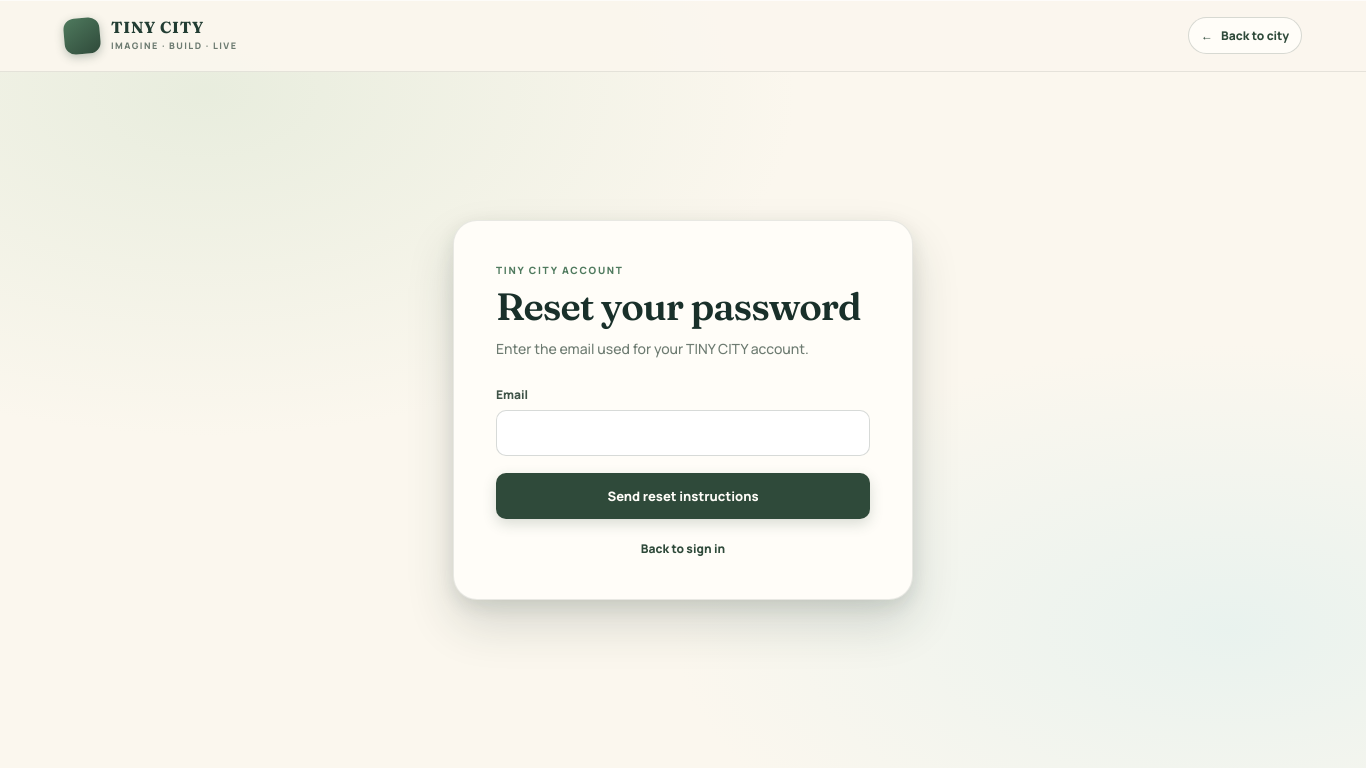
Scenario: account entry flows › shows the generic forgot-password response and does not ask whether the account exists
Type "huy@example.com" into the field labelled "Email" at (683, 433), box [496,410,870,456]
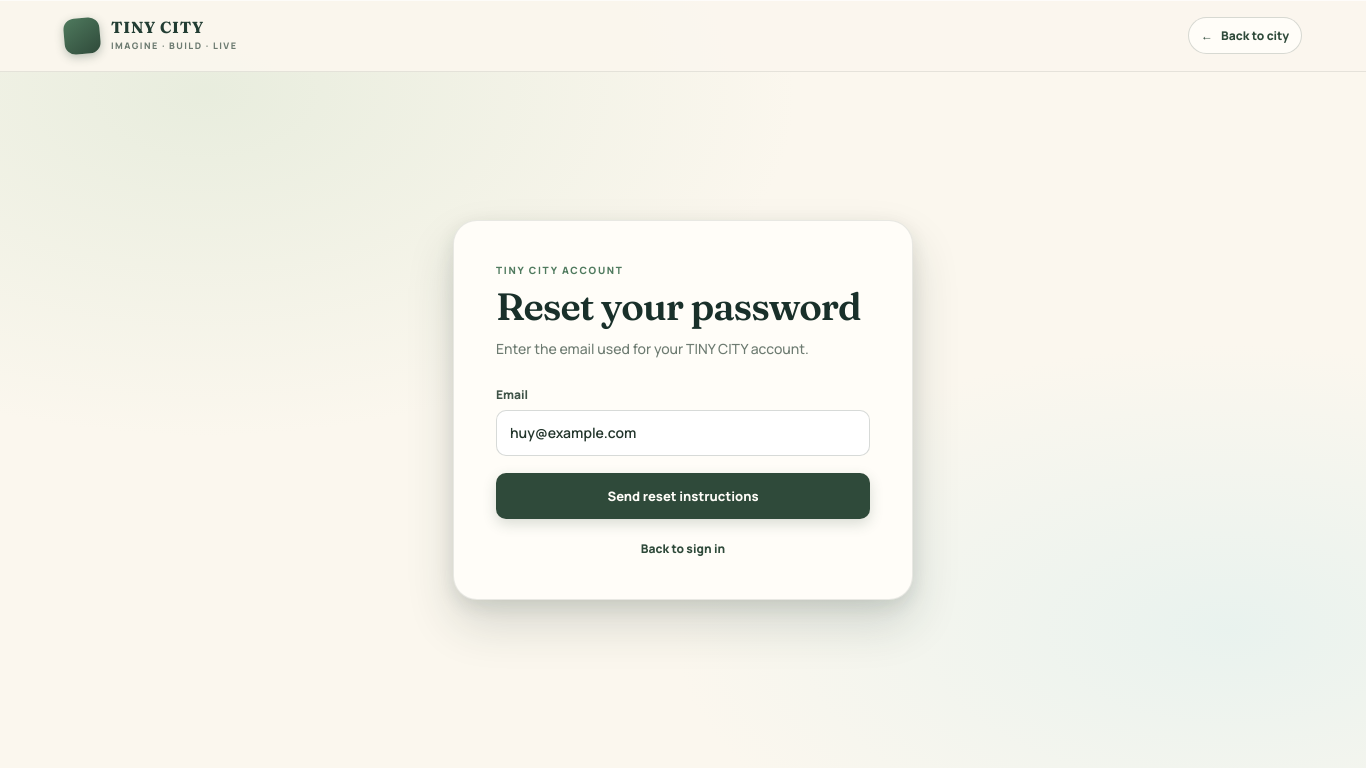
Click the button "Send reset instructions" at (683, 496), box [496,473,870,519]
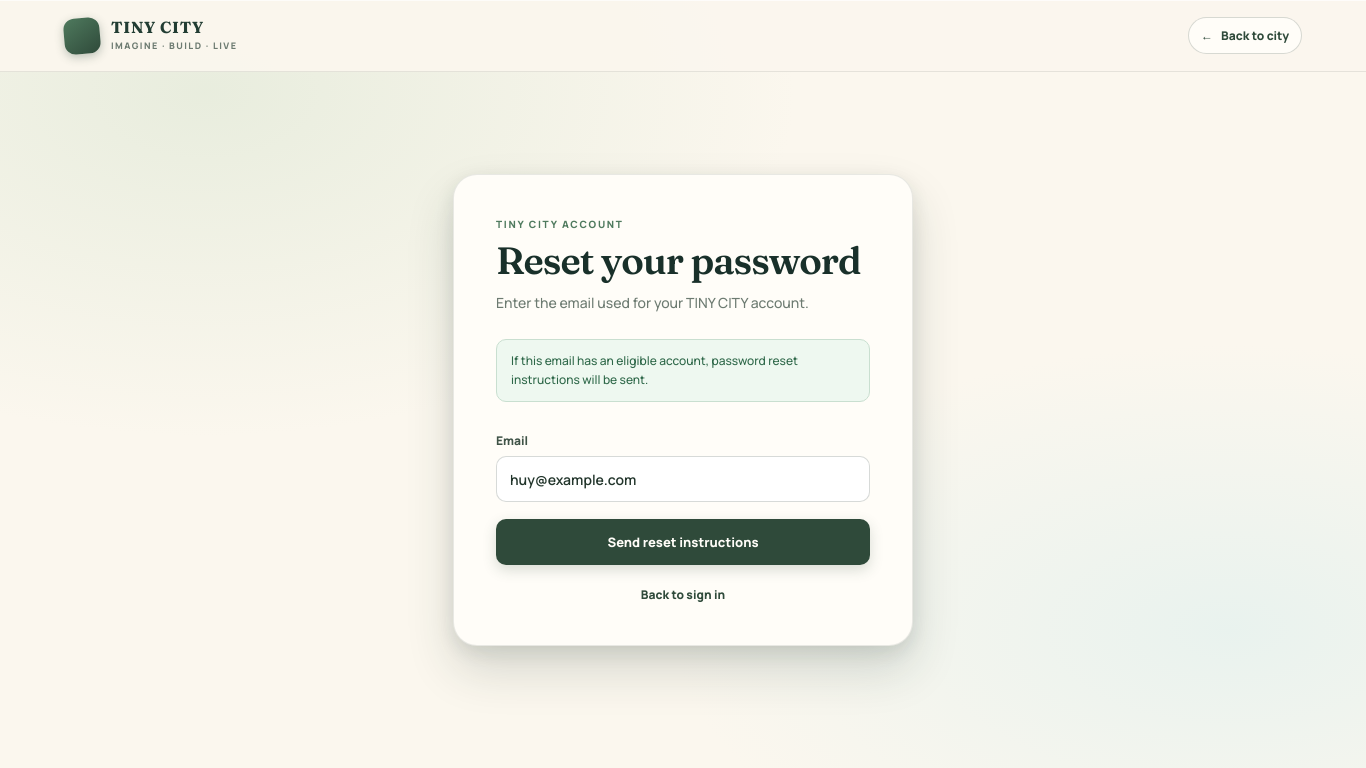
expect the message shows "If this email has an eligible account": met, box [511,352,798,388]
